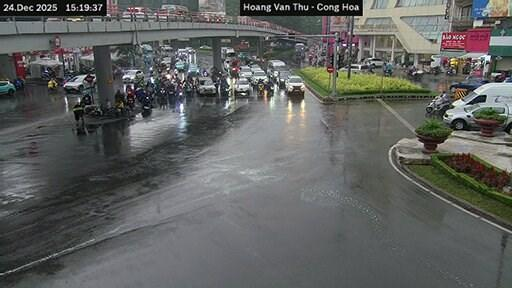motorbike: (426, 94, 450, 113), (140, 95, 152, 116), (42, 68, 54, 80), (13, 77, 24, 89), (408, 70, 422, 79), (127, 94, 134, 108), (256, 82, 263, 95), (48, 80, 57, 90), (263, 84, 272, 94), (428, 66, 440, 73), (445, 67, 454, 75), (383, 70, 390, 76)
